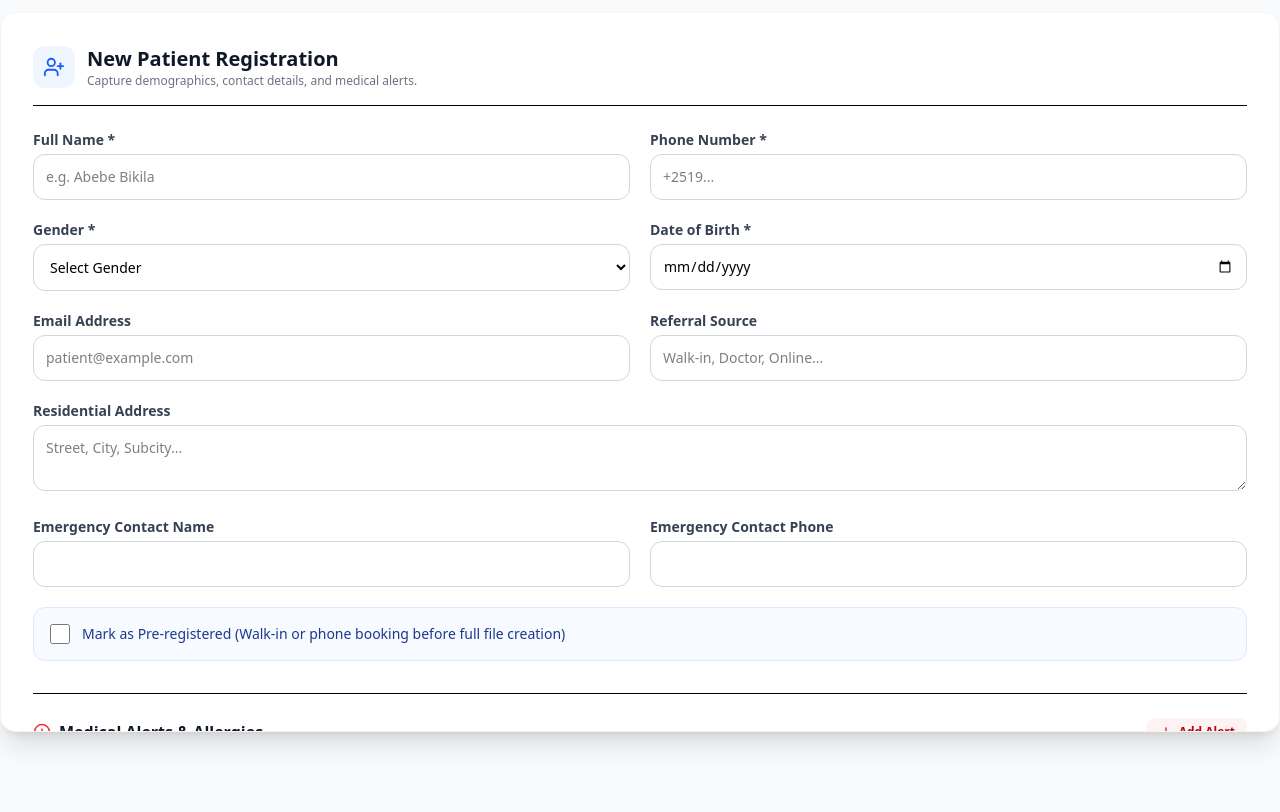
PatientRegistrationForm (FR-PAT-001 / TR-PAT-002) › rejects a phone number shorter than 10 characters
Type "Sekina Nesrie" into the field labelled "Full Name *" at (332, 177), box [33,154,630,200]
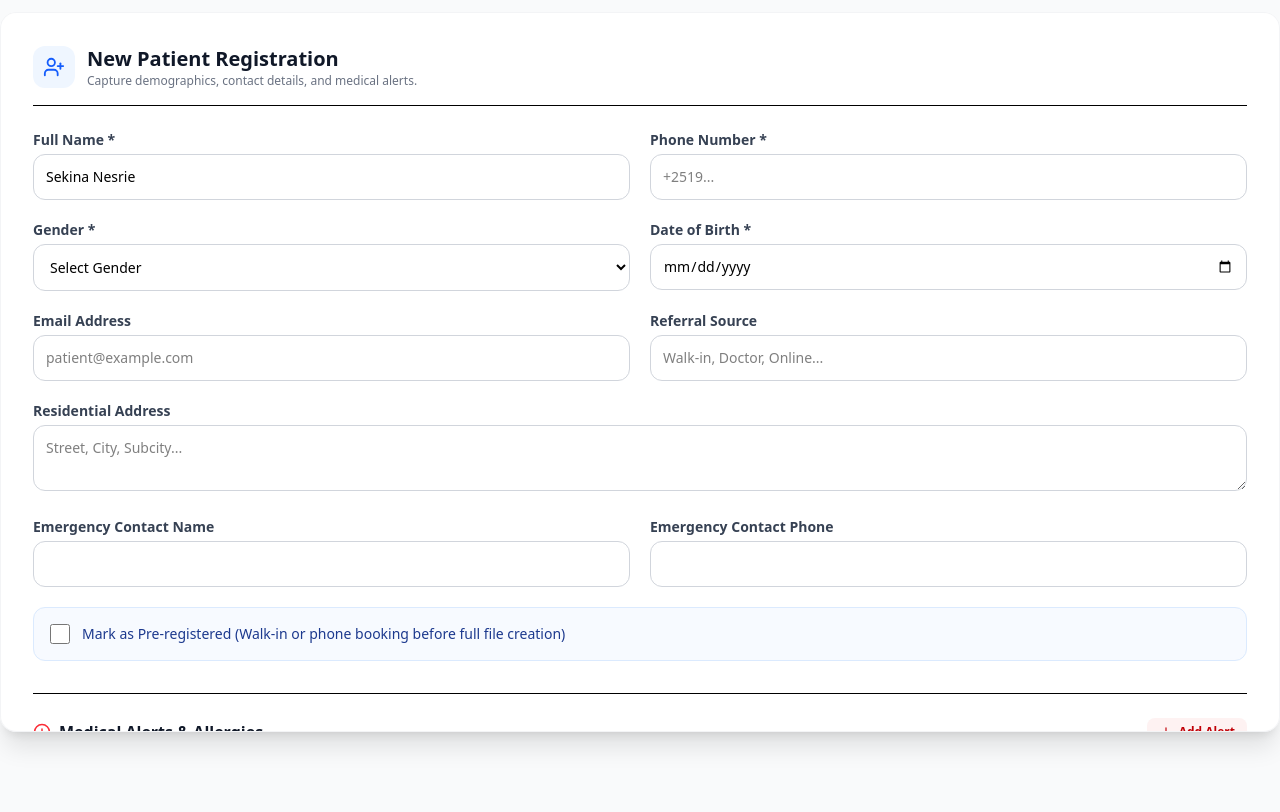
Type "+251944112137" into the field labelled "Phone Number *" at (948, 177), box [650,154,1247,200]
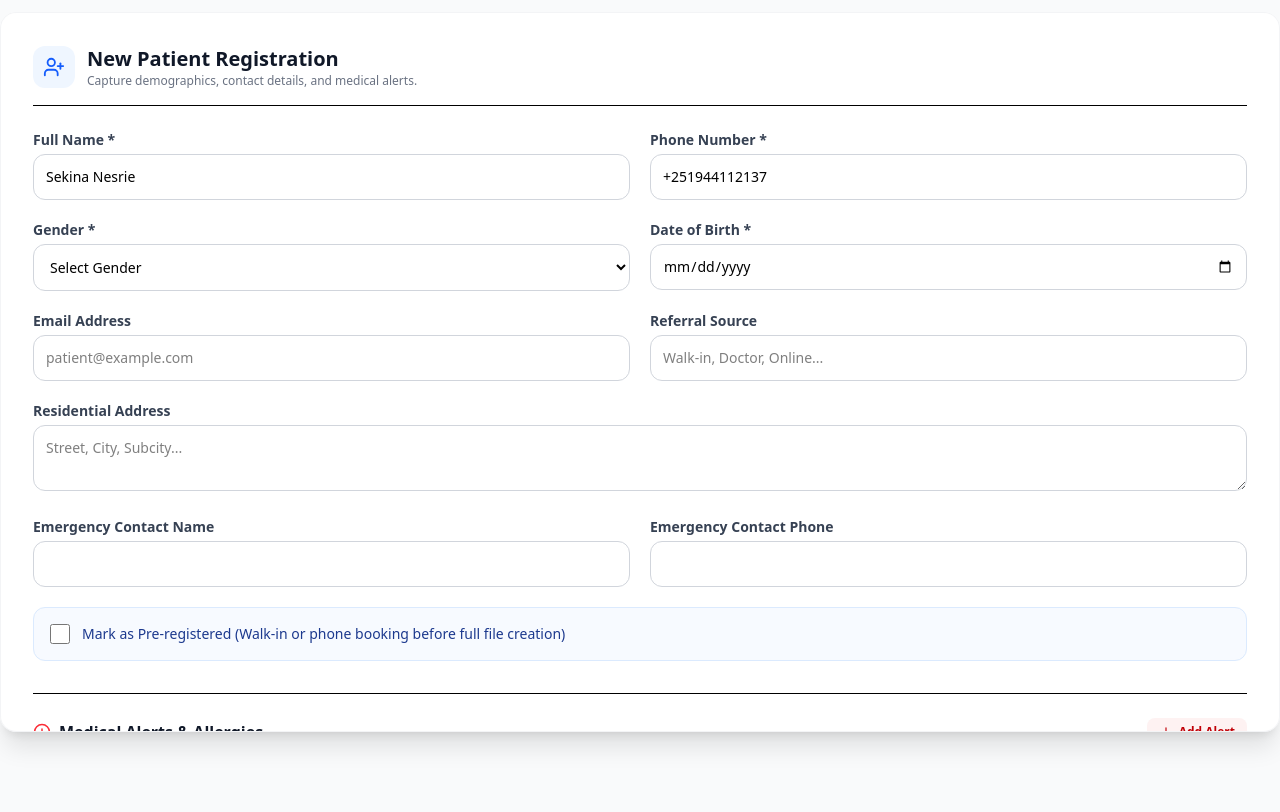
Select "Female" in the dropdown labelled "Gender *" at (332, 268), box [33,244,630,291]
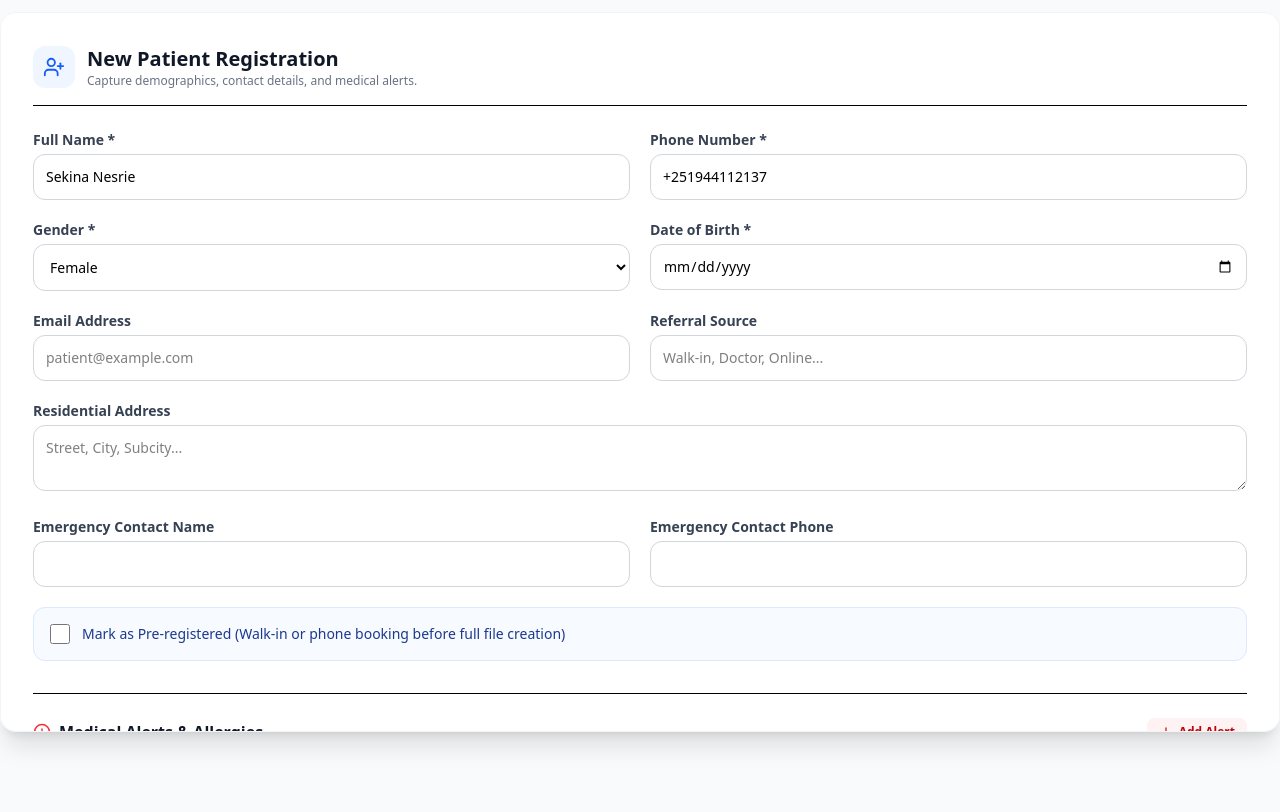
Type "1990-05-20" into the date field labelled "Date of Birth *" at (948, 267), box [650,244,1247,290]
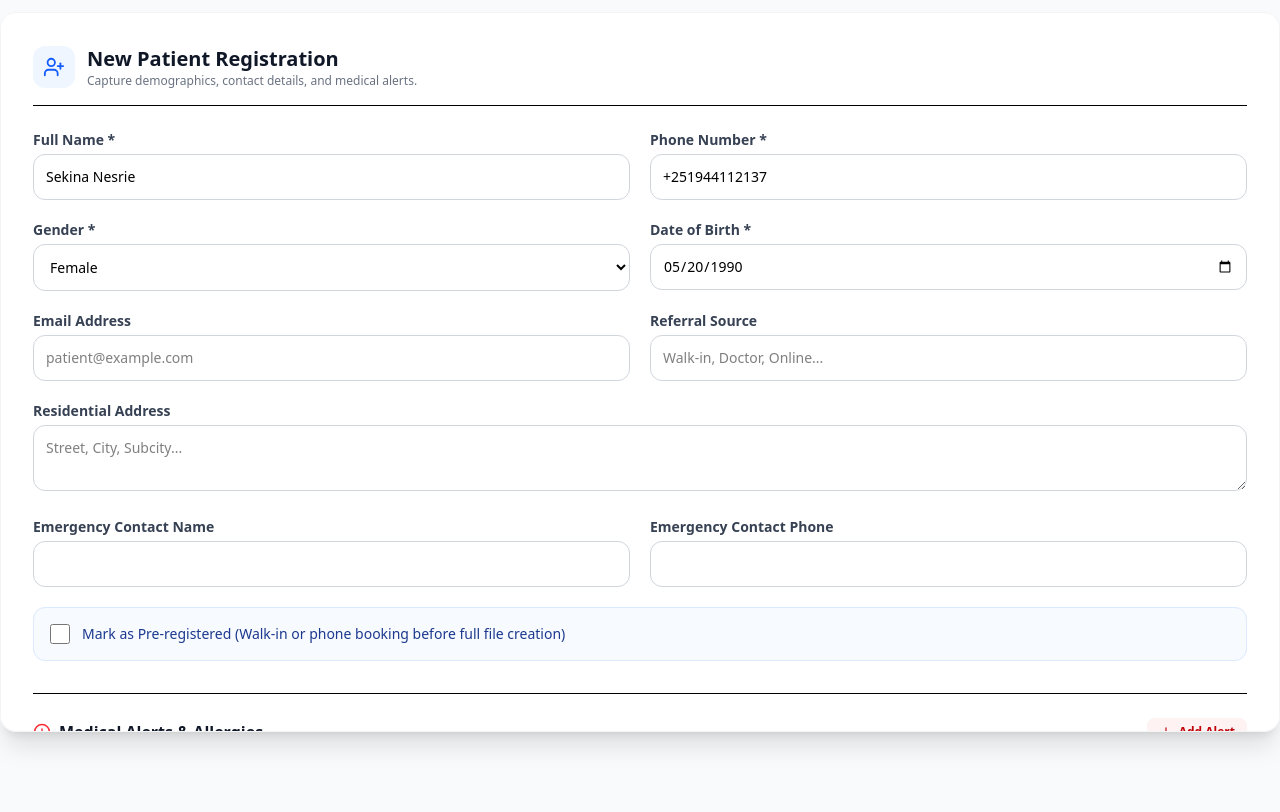
Replace the text in the field labelled "Phone Number *" with "12345" at (948, 177), box [650,154,1247,200]
(page scrolled)
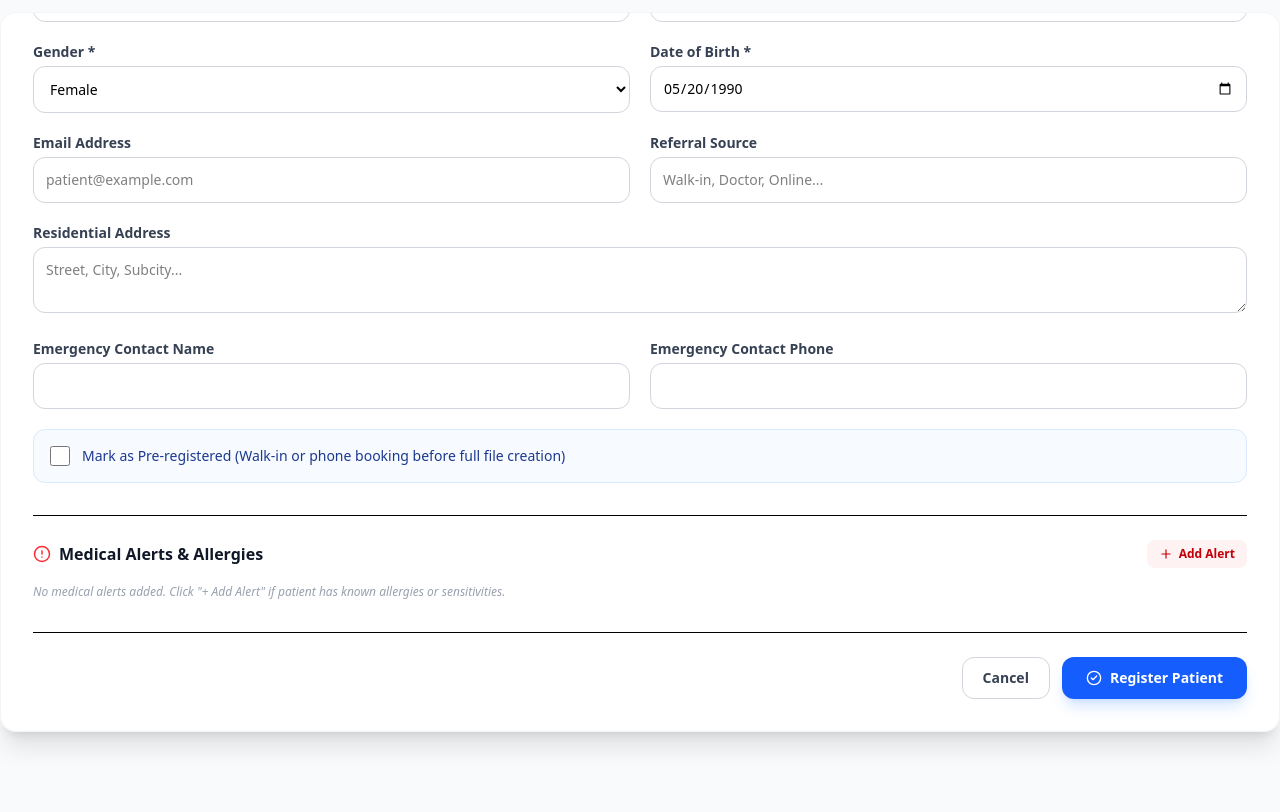
Click the button "Register Patient" at (1154, 678), box [1062,657,1247,699]
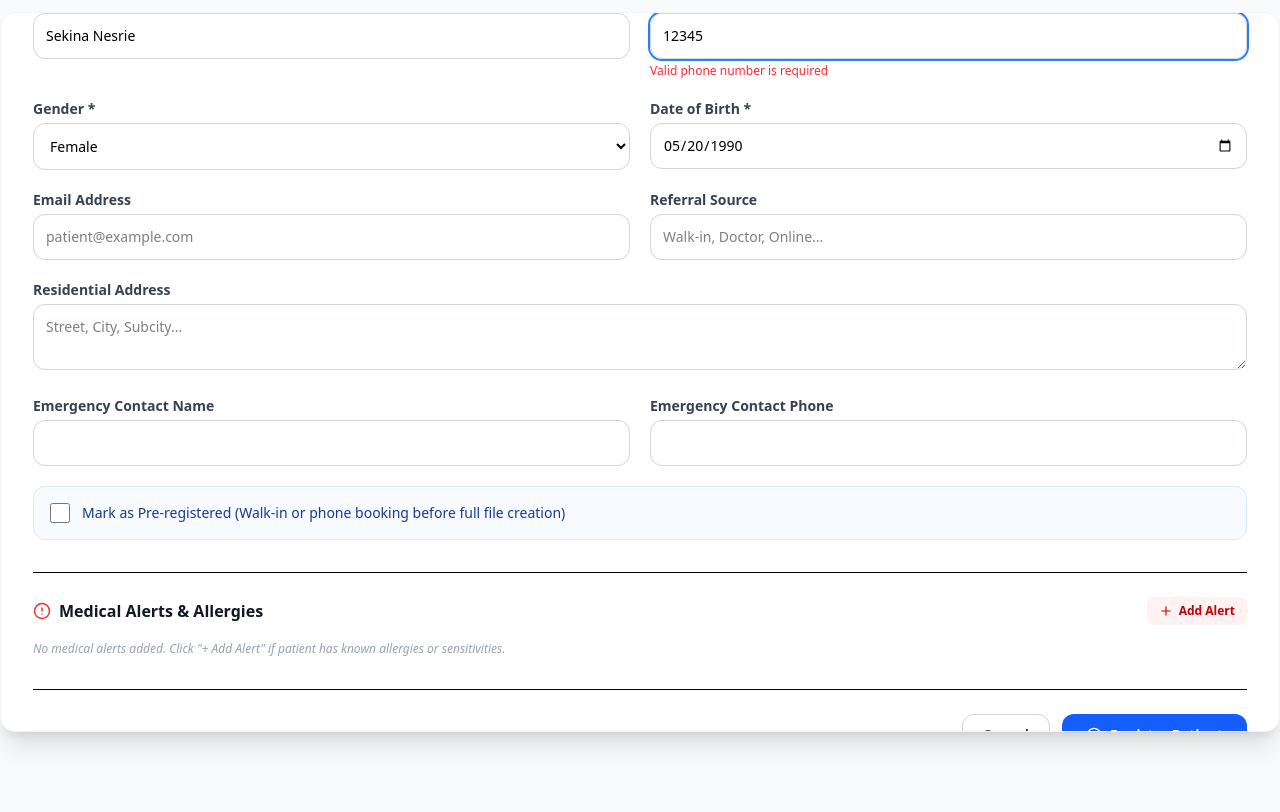
Expected: the text "Valid phone number is required" is shown, [650,62,828,79]
